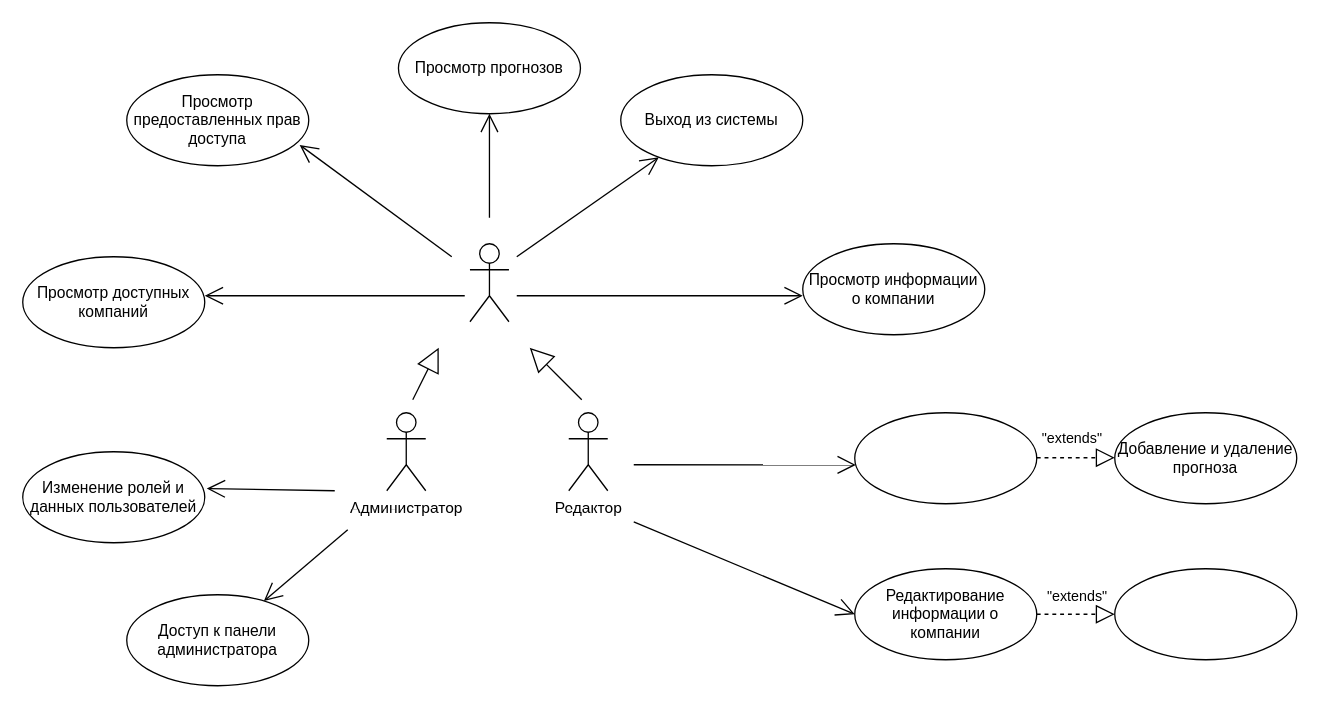
This 1320x709 diagram has some shape labels left out. The centre of each missing label's shape, as x and y in pixels:
"Добавление и удаление компании" belongs at (x=1205, y=613).
"Пользователь" belongs at (x=489, y=282).
"Редактирование прогноза" belongs at (x=945, y=457).
